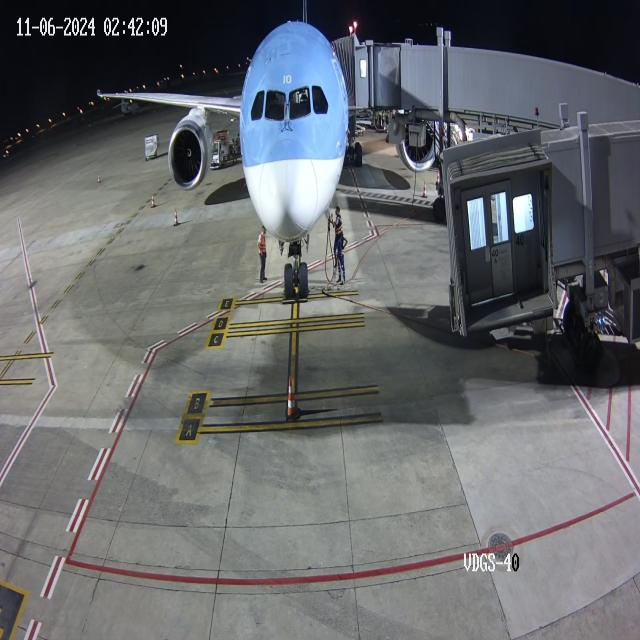bridge: (352, 33, 407, 113)
plane: (76, 10, 343, 296)
window: (248, 76, 334, 139)
